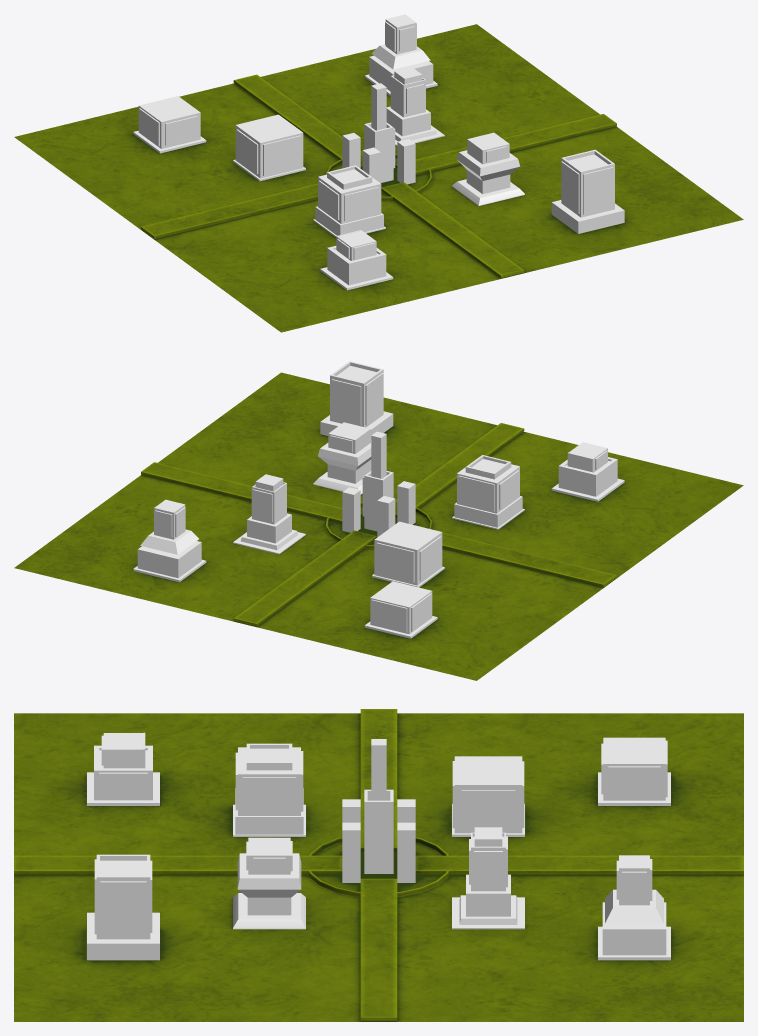
The picture shows the model from 3 angles, top to bottom: view 1: azimuth 30°, elevation 25°; view 2: azimuth 150°, elevation 25°; view 3: azimuth 270°, elevation 25°; orthographic projection. The views are drawn at different scales.
Visible parts, largest first — view 1: Floor, Building, Billboard; view 2: Floor, Building, Billboard; view 3: Floor, Building, Billboard.
Part boxes in pixels (x1=…): Floor: x1=14, y1=24, x2=743, y2=332; Building: x1=133, y1=14, x2=624, y2=290; Billboard: x1=139, y1=22, x2=613, y2=259; Floor: x1=14, y1=372, x2=743, y2=680; Building: x1=133, y1=361, x2=624, y2=638; Billboard: x1=155, y1=373, x2=607, y2=632; Floor: x1=14, y1=709, x2=743, y2=1021; Building: x1=87, y1=733, x2=670, y2=960; Billboard: x1=94, y1=732, x2=667, y2=935.
Bounding box in the file's own units: 10.02 × 1.93 × 10.02.
3 materials, 1 textured.
